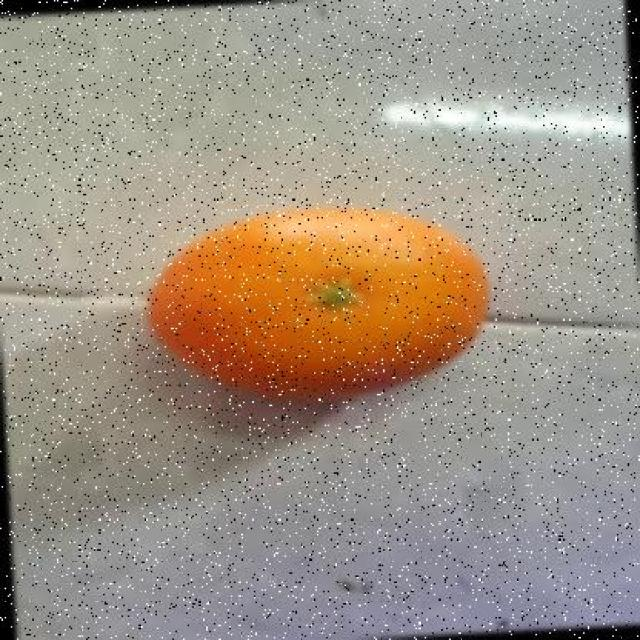Orange: (144, 203, 490, 403)
